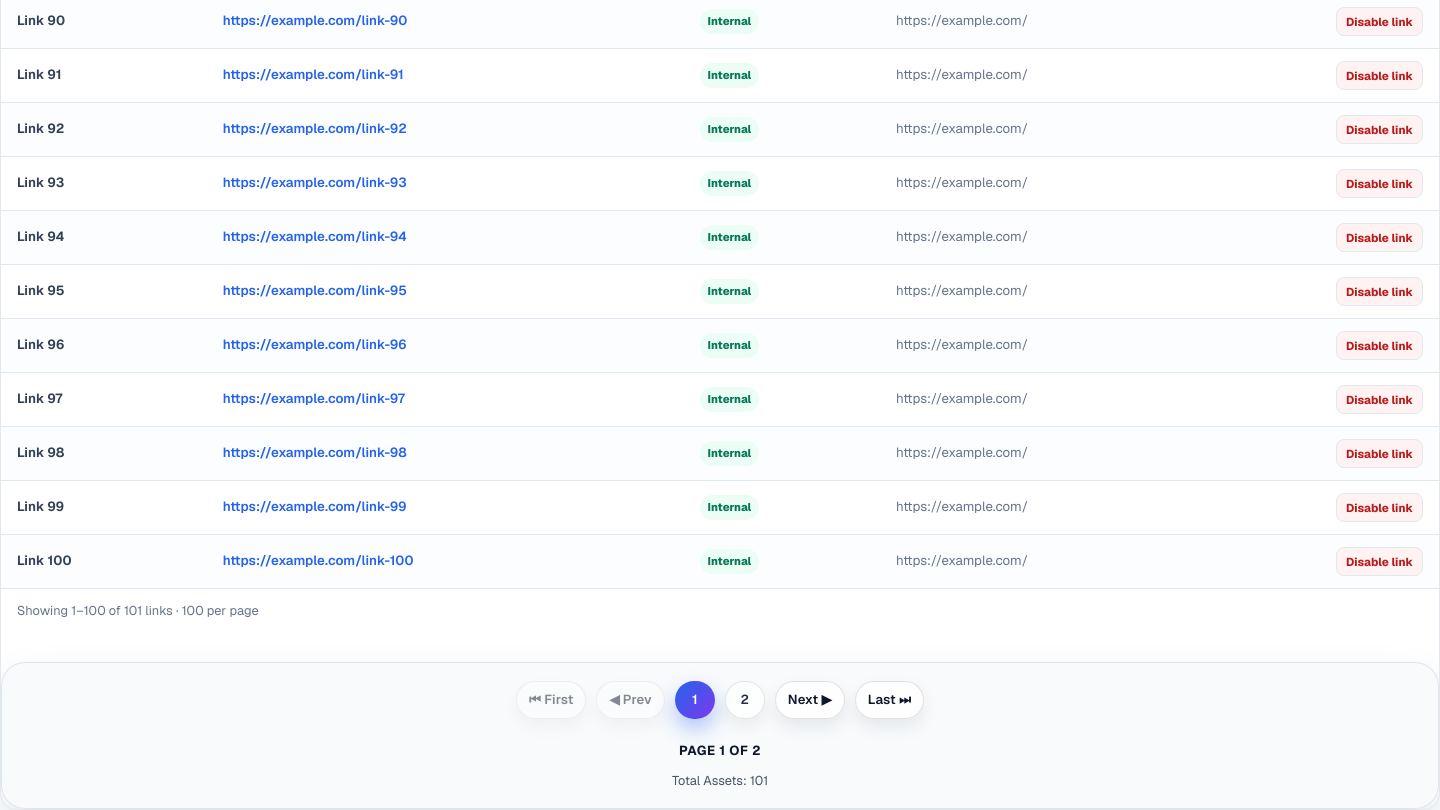
LinksScanPanel › uses the shared pagination to fetch the next server-side page
The image size is (1440, 810).
(page scrolled)
Click the button "Next ▶" at (810, 700), box [775,681,845,719]
(page scrolled)
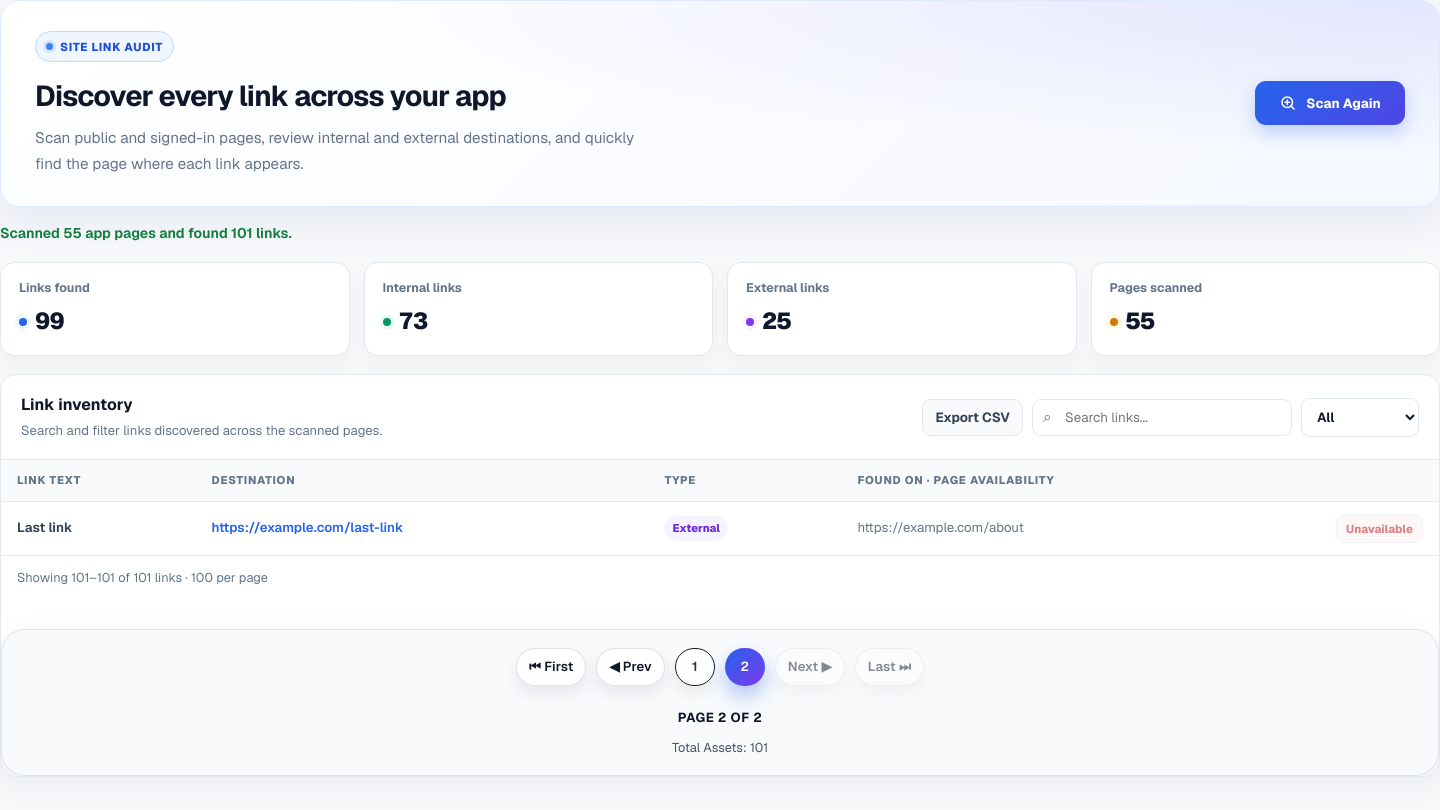
Expected: the text "Last link" is shown, [1,501,196,555]
